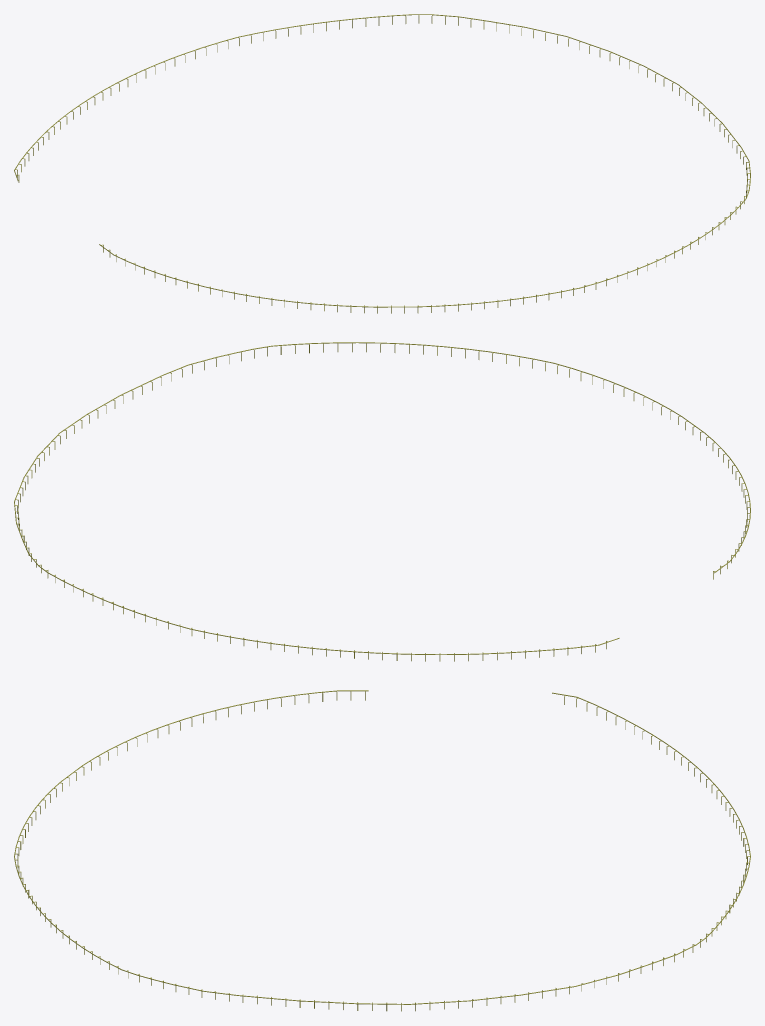
Rendered from tutorial  handrail.fbx.
The picture shows the model from 3 angles, top to bottom: view 1: azimuth 30°, elevation 25°; view 2: azimuth 150°, elevation 25°; view 3: azimuth 270°, elevation 25°; orthographic projection. The views are drawn at different scales.
Visible parts, largest first — view 1: Object2110; view 2: Object2110; view 3: Object2110.
Boxes of the visible parts, x1,y1,x2,y2 form: Object2110: (14, 14, 750, 313); Object2110: (14, 342, 750, 661); Object2110: (14, 690, 750, 1011).
Size of the model in its own units: 12142 by 159 by 12048.
